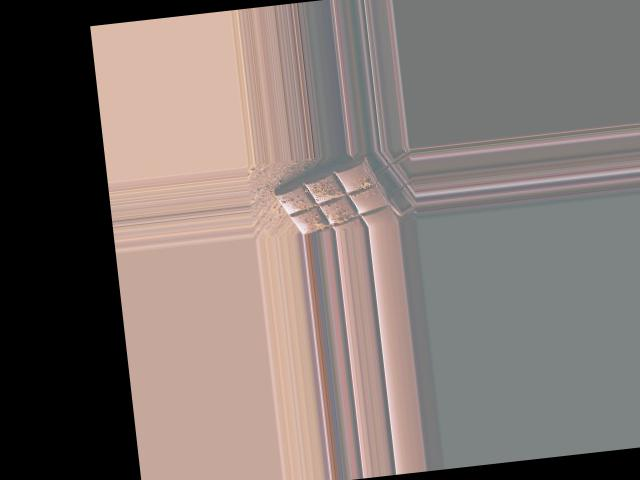chocolate: (266, 155, 399, 236)
